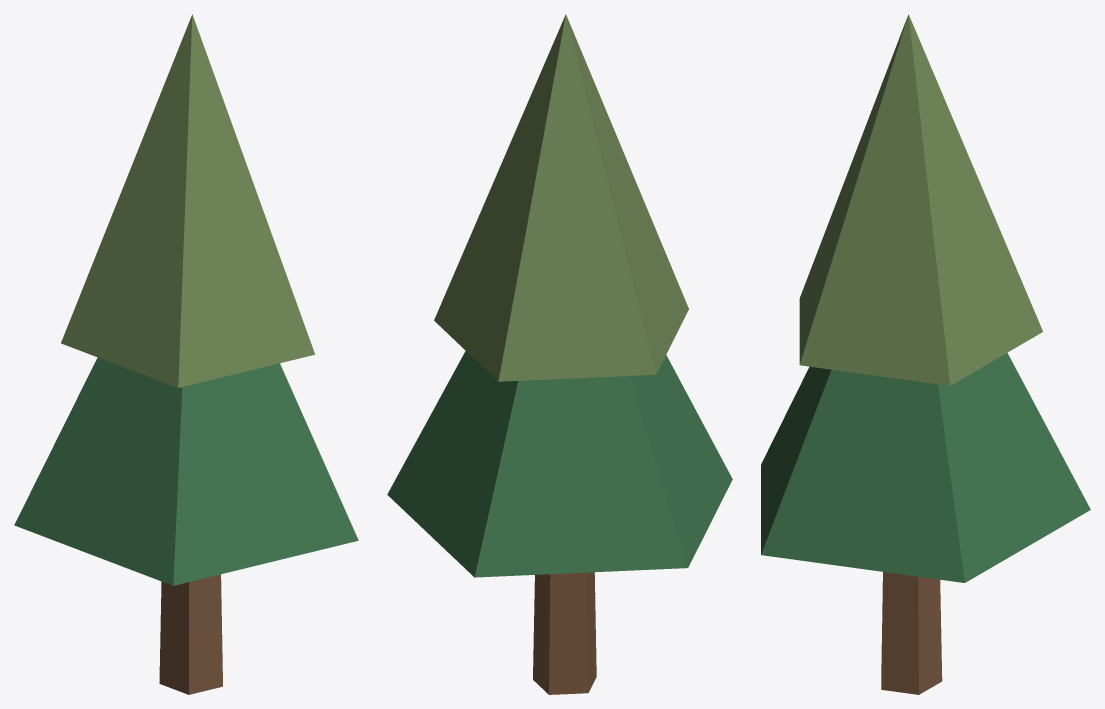
File: prop_tree_pine.glb
3 renders of one model, left to right at view 1: azimuth 30°, elevation 25°; view 2: azimuth 150°, elevation 25°; view 3: azimuth 270°, elevation 25°, orthographic.
Visible parts, largest first — view 1: prop_tree_pine; view 2: prop_tree_pine; view 3: prop_tree_pine.
Boxes of the visible parts, x1,y1,x2,y2 form: prop_tree_pine: (14, 14, 358, 694); prop_tree_pine: (387, 14, 732, 694); prop_tree_pine: (761, 14, 1090, 694).
Size of the model in its own units: 1.24 by 2.62 by 1.18.
Materials: 1 (1 with a texture image).
